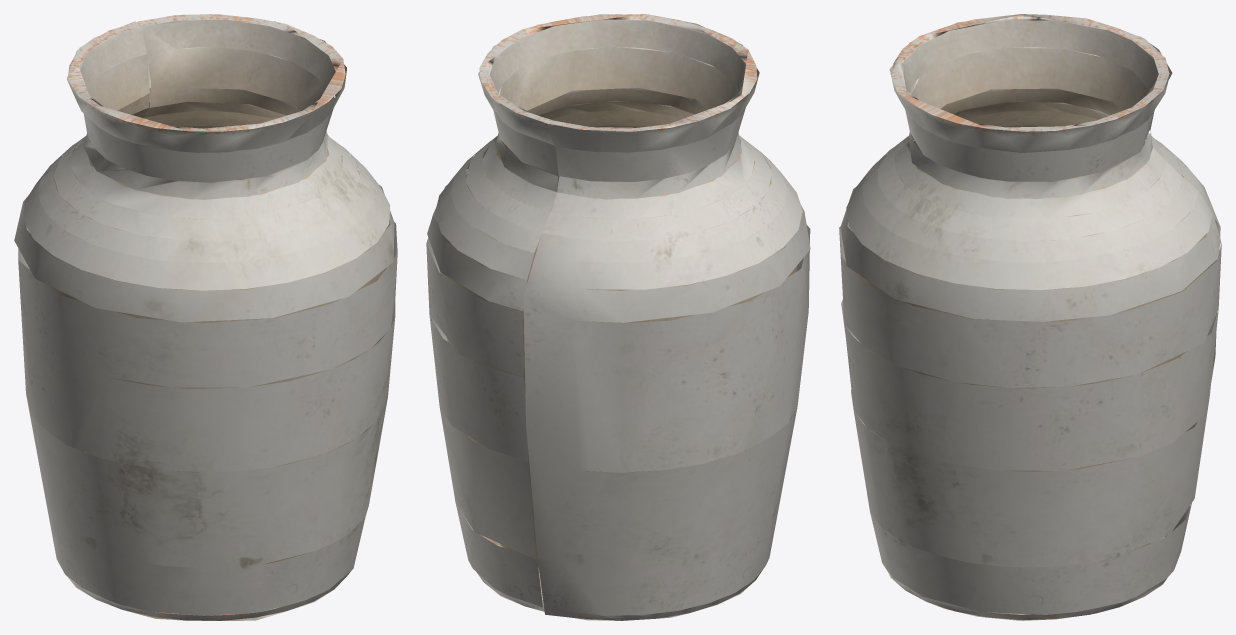
3 renders of one model, left to right at view 1: azimuth 30°, elevation 25°; view 2: azimuth 150°, elevation 25°; view 3: azimuth 270°, elevation 25°, orthographic.
Parts seen in each view (by area): view 1: ceramic_vase_02.001; view 2: ceramic_vase_02.001; view 3: ceramic_vase_02.001.
Part boxes in pixels (x1,y1,x2,y2): ceramic_vase_02.001: (14,14,397,620); ceramic_vase_02.001: (426,14,810,620); ceramic_vase_02.001: (839,14,1221,620).
Bounding box in the file's own units: 0.2184 × 0.3098 × 0.2184.
Materials: 1 (1 with a texture image).
